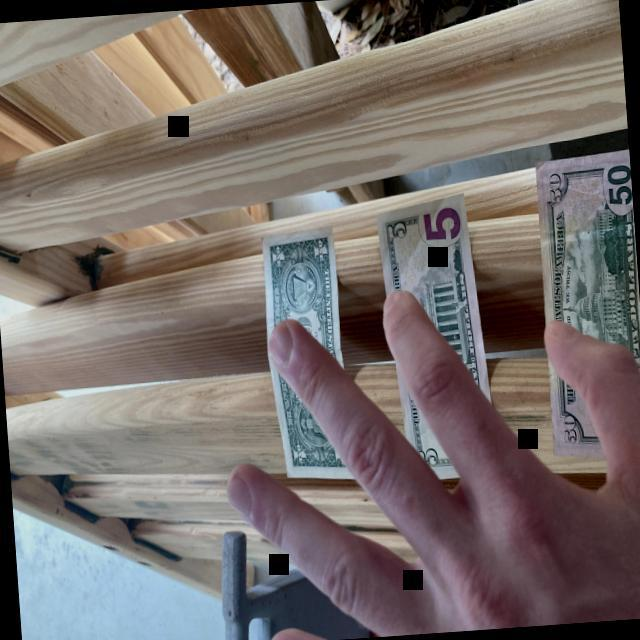fifty: (535, 149, 640, 458)
five: (375, 192, 499, 481)
one: (261, 222, 362, 477)
